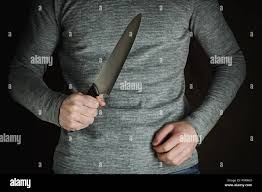knife: (79, 12, 142, 114)
